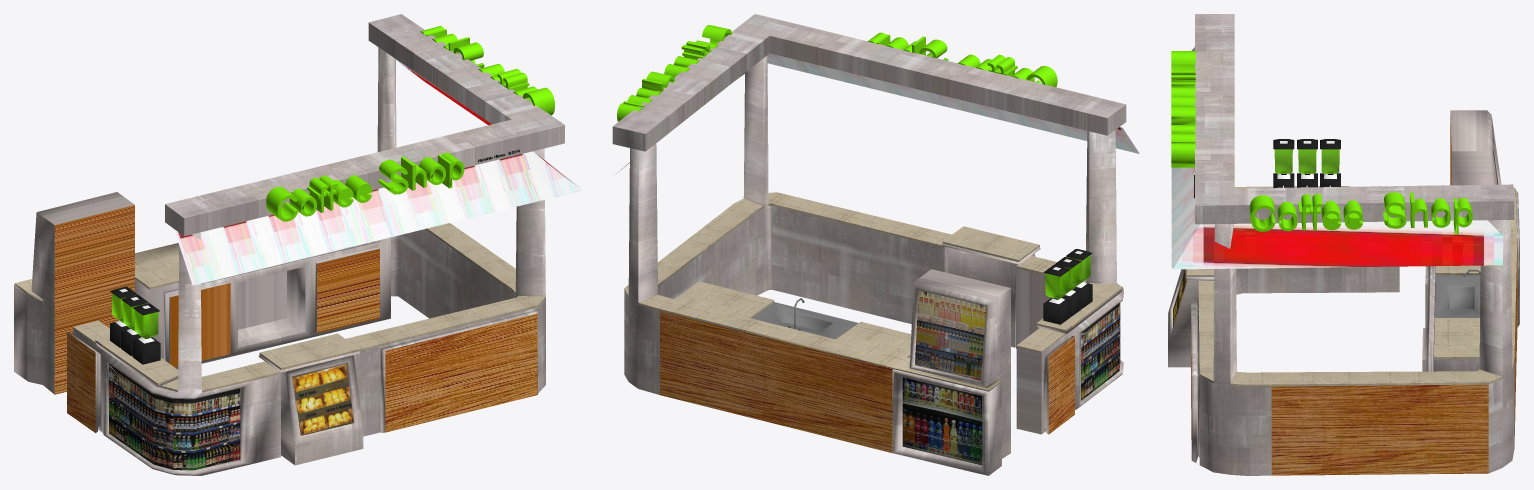
Rendered from Coffee_Shop.obj.
The picture shows the model from 3 angles, left to right: view 1: azimuth 30°, elevation 25°; view 2: azimuth 150°, elevation 25°; view 3: azimuth 270°, elevation 25°; orthographic projection. The views are drawn at different scales.
Parts seen in each view (by area): view 1: Coffee Shop; view 2: Coffee Shop; view 3: Coffee Shop.
Part boxes in pixels (left/top/right/bottom): Coffee Shop: left=14, top=14, right=580, bottom=475; Coffee Shop: left=612, top=14, right=1139, bottom=475; Coffee Shop: left=1168, top=14, right=1519, bottom=475.
Bounding box in the file's own units: 229 × 144 × 162.
